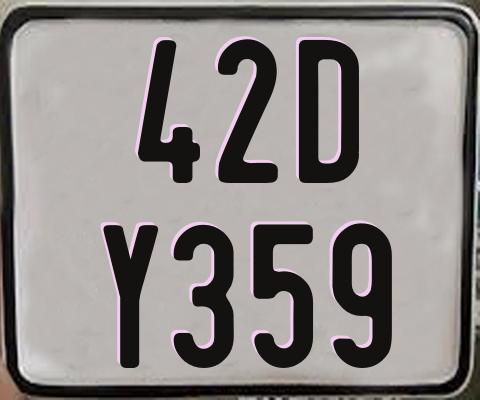2: (218, 39, 280, 189)
3: (174, 224, 235, 369)
4: (137, 40, 205, 189)
5: (251, 223, 316, 372)
9: (330, 221, 390, 370)
D: (297, 40, 357, 184)
Y: (103, 222, 162, 369)
